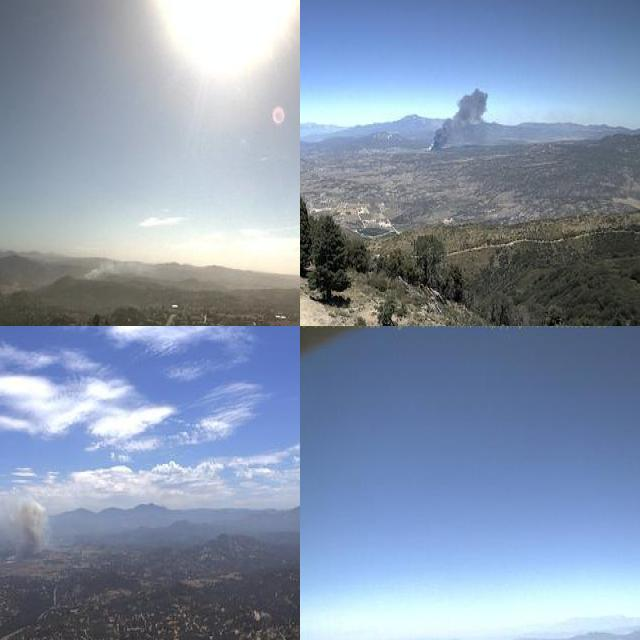smoke: (420, 83, 492, 157), (8, 490, 55, 570), (84, 242, 150, 285)
